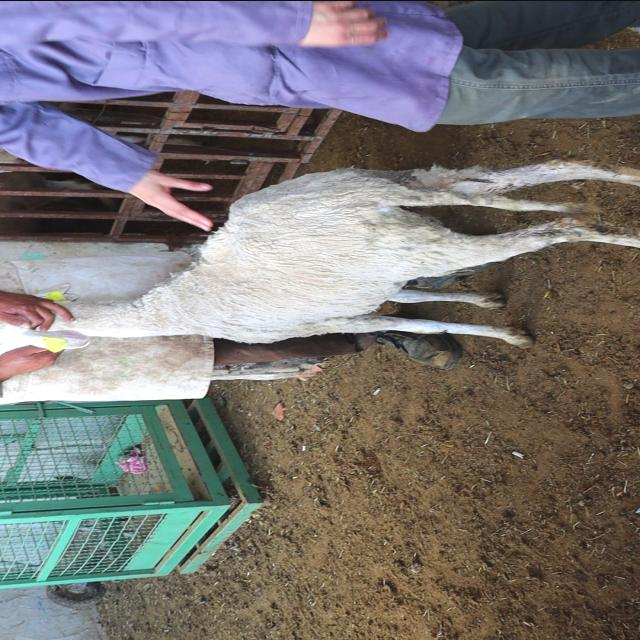Score_1: (0, 158, 639, 353)
